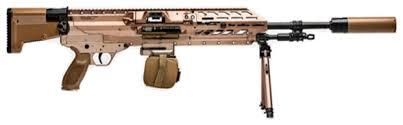larga: (6, 6, 397, 119)
